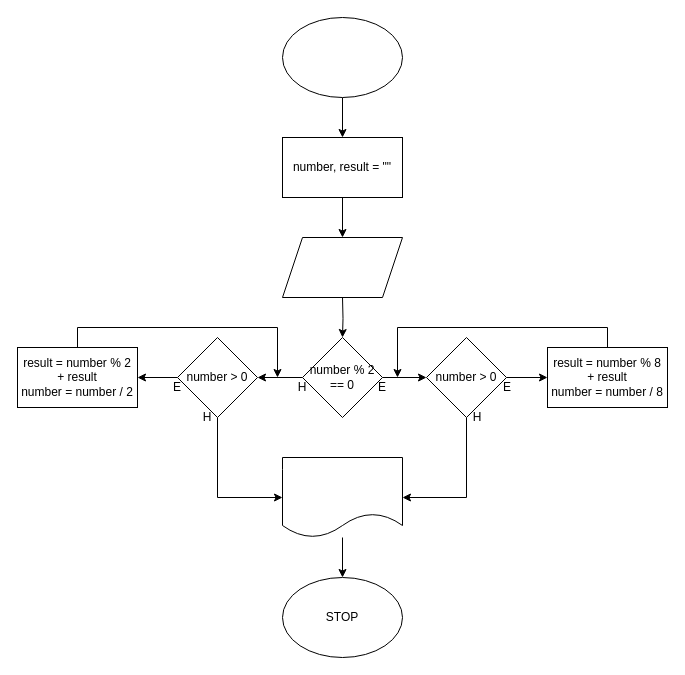
Some shapes in this 685 by 675 pixel diagram are drawn without their labels. The shapes that lost their labels are listed below. From the top down, each one's centre as x and y in pixels, then its label:
At point (342, 57): "START".
At point (342, 267): "number".
At point (342, 497): "result".
